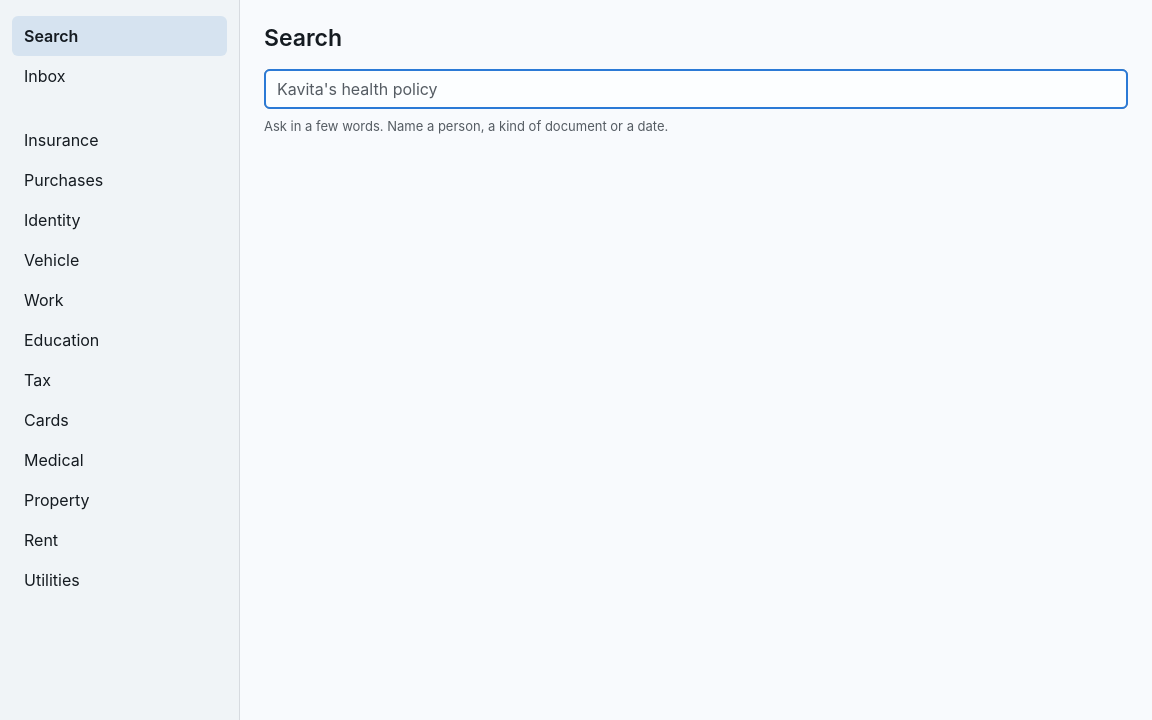
Test: the shell › a link moves to its screen without leaving the page, and marks where you are
The image size is (1152, 720).
Click the link "Insurance": (61, 140) [24,130,99,150]
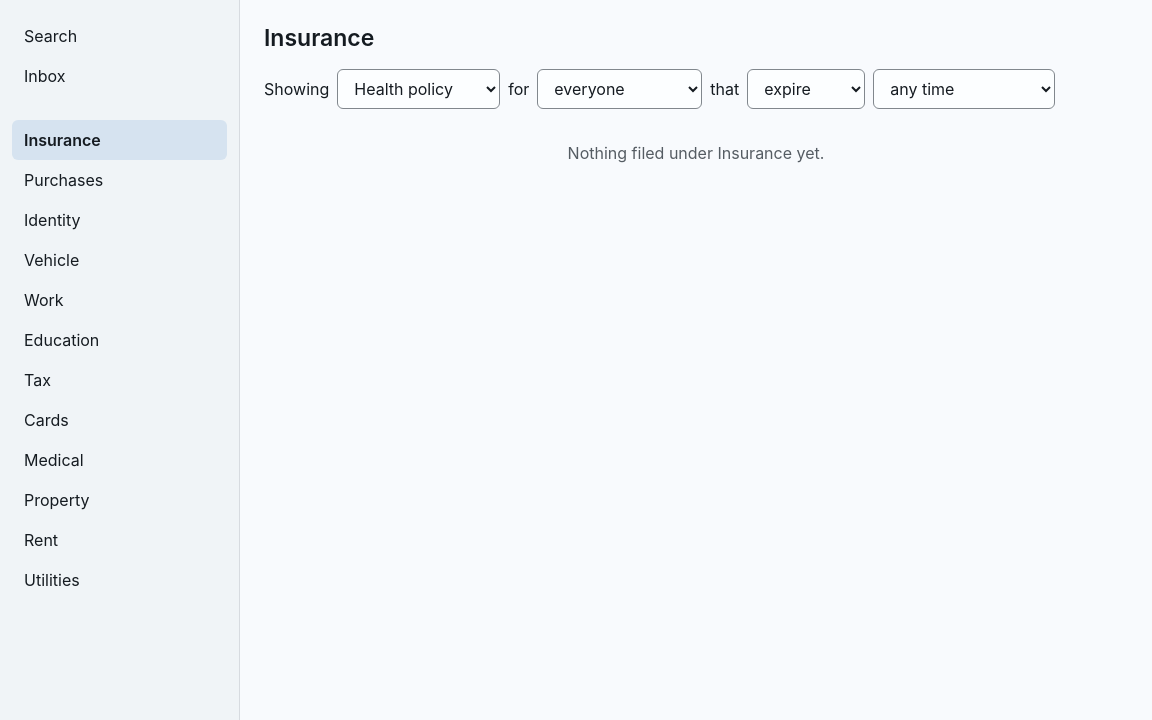
Expected: the heading "Insurance" is shown, [264,24,374,52]
